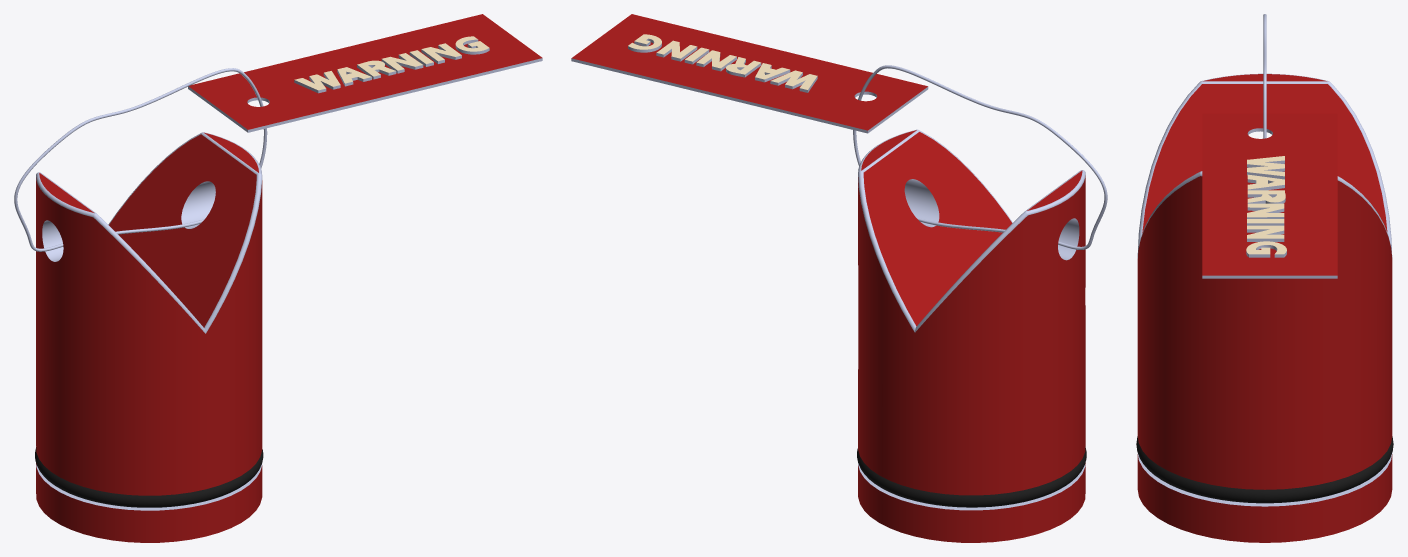
Rendered from CIRCUIT BREAKER SAFETY LOCKS red.fbx.
The picture shows the model from 3 angles, left to right: view 1: azimuth 30°, elevation 25°; view 2: azimuth 150°, elevation 25°; view 3: azimuth 270°, elevation 25°; orthographic projection. The views are drawn at different scales.
Size of the model in its own units: 3.58 by 2.78 by 1.41.
